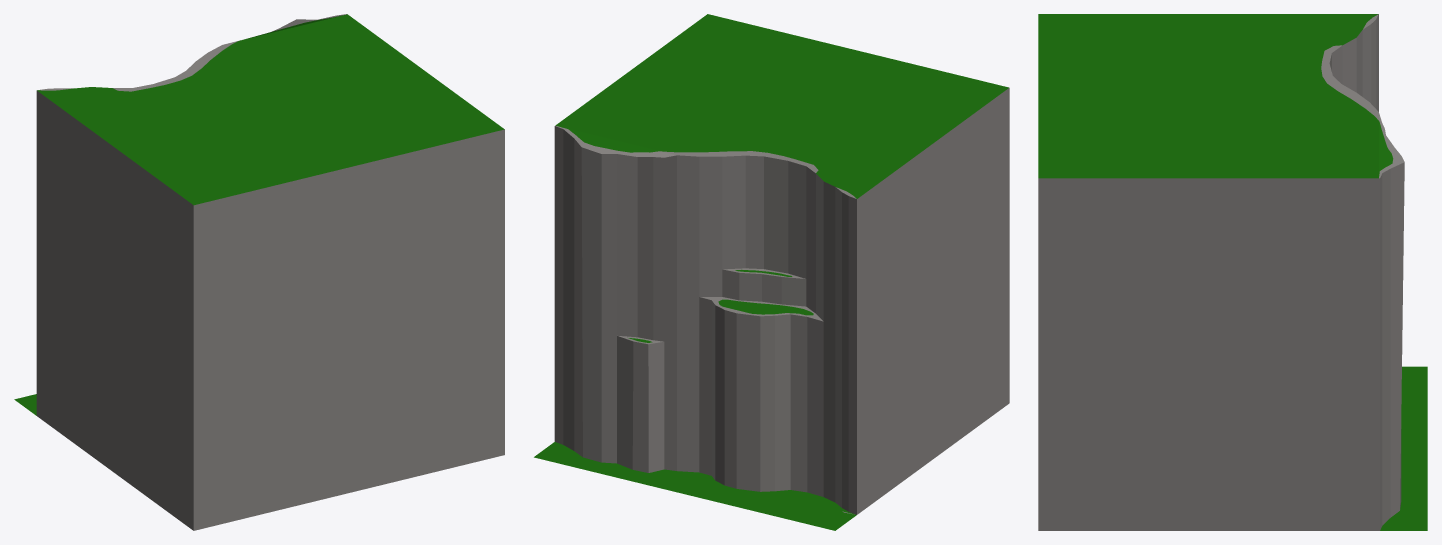
Rendered from MountainSide.fbx.
3 renders of one model, left to right at view 1: azimuth 30°, elevation 25°; view 2: azimuth 150°, elevation 25°; view 3: azimuth 270°, elevation 25°, orthographic. The views are drawn at different scales.
Visible parts, largest first — view 1: Plane.001; view 2: Plane.001; view 3: Plane.001.
Boxes of the visible parts, x1=… form: Plane.001: x1=14, y1=14, x2=504, y2=530; Plane.001: x1=534, y1=14, x2=1009, y2=530; Plane.001: x1=1038, y1=14, x2=1427, y2=530.
Bounding box in the file's own units: 100 × 100 × 100.
